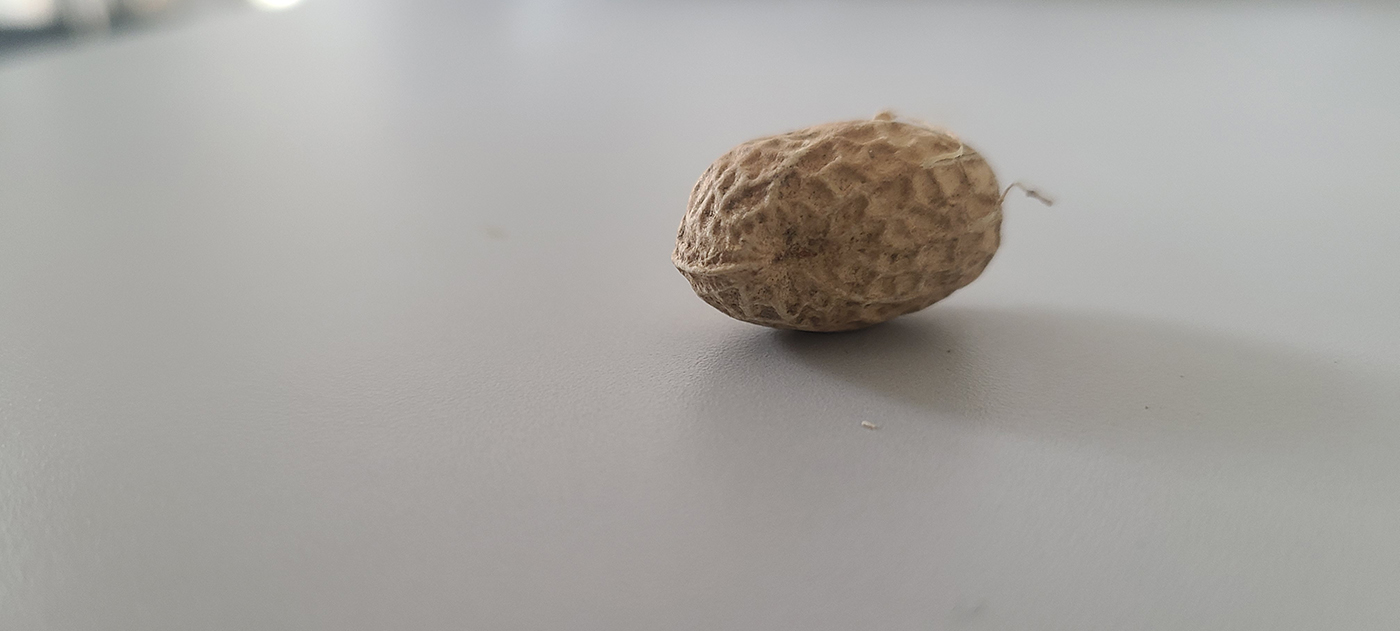h: (671, 112, 1005, 334)
